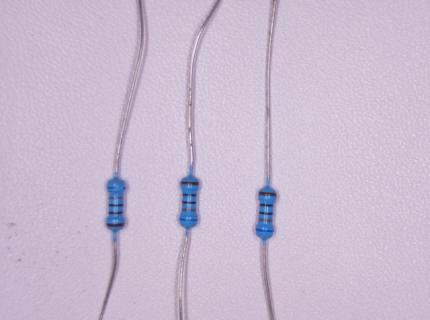Blue band: (255, 228, 274, 232), (180, 218, 198, 221), (107, 187, 126, 189)
Grey band: (258, 218, 273, 223), (182, 208, 196, 212), (109, 196, 123, 199)
